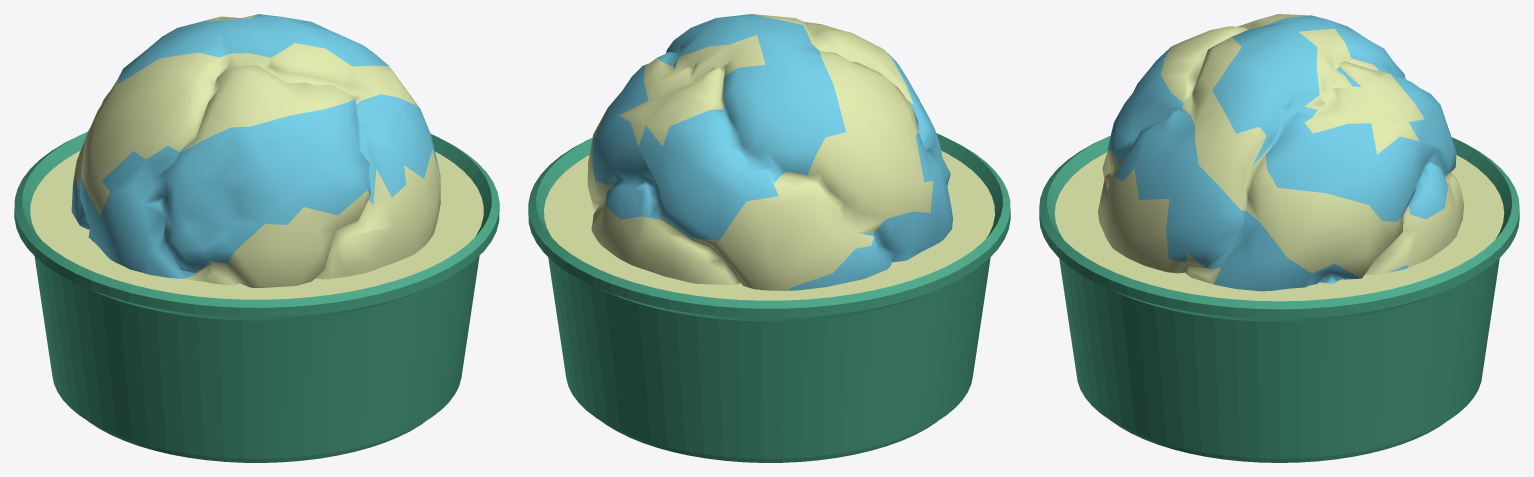
File: CureItem.fbx
3 views of the same model, side by side, from view 1: azimuth 30°, elevation 25°; view 2: azimuth 150°, elevation 25°; view 3: azimuth 270°, elevation 25° (orthographic).
Visible parts, largest first — view 1: Sphere; view 2: Sphere; view 3: Sphere.
Part boxes in pixels (bbox=[...]): Sphere: bbox=[14, 14, 499, 462]; Sphere: bbox=[528, 14, 1010, 462]; Sphere: bbox=[1039, 14, 1519, 462].
Size of the model in its own units: 38.68 by 31.22 by 38.68.
